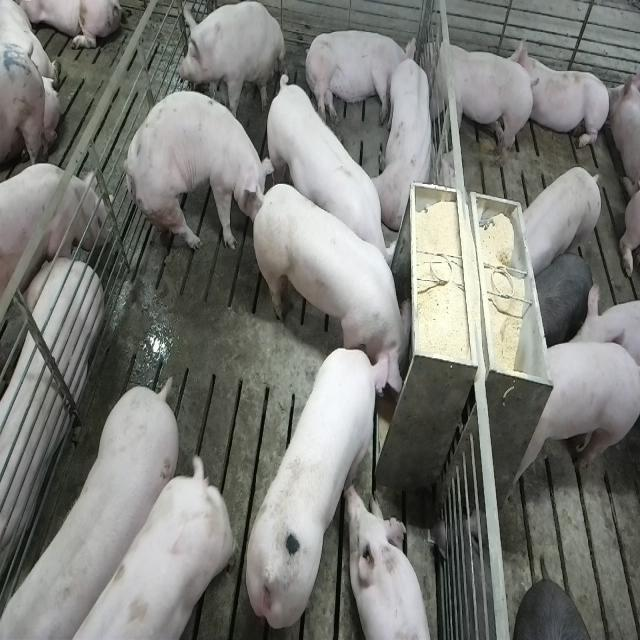Feeding: (244, 342, 393, 632), (248, 175, 412, 388)
Lateral_lying: (0, 252, 102, 616), (303, 28, 417, 128)
Sitting: (176, 2, 286, 126)
Standing: (0, 379, 176, 640), (262, 71, 394, 284), (120, 87, 268, 261), (504, 342, 638, 504), (421, 32, 535, 172), (0, 166, 107, 302), (516, 166, 602, 278), (533, 250, 595, 342)
Sternal_lying: (348, 485, 432, 640), (516, 36, 613, 154), (374, 54, 436, 231)
